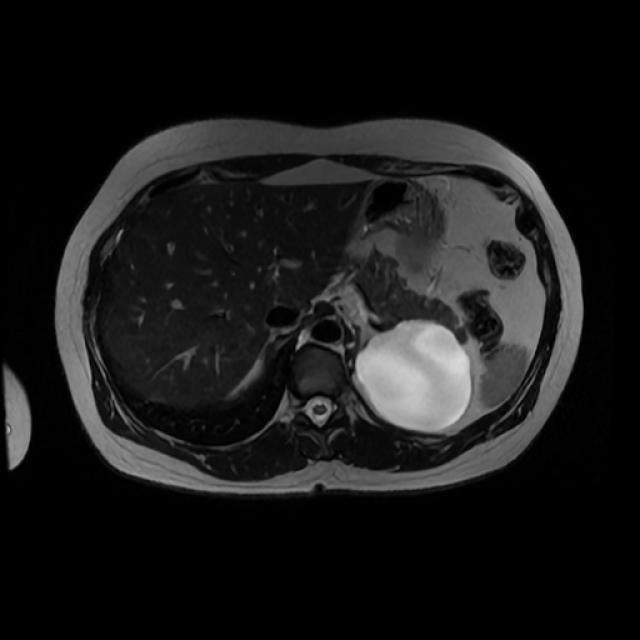sol: (352, 317, 474, 432)
